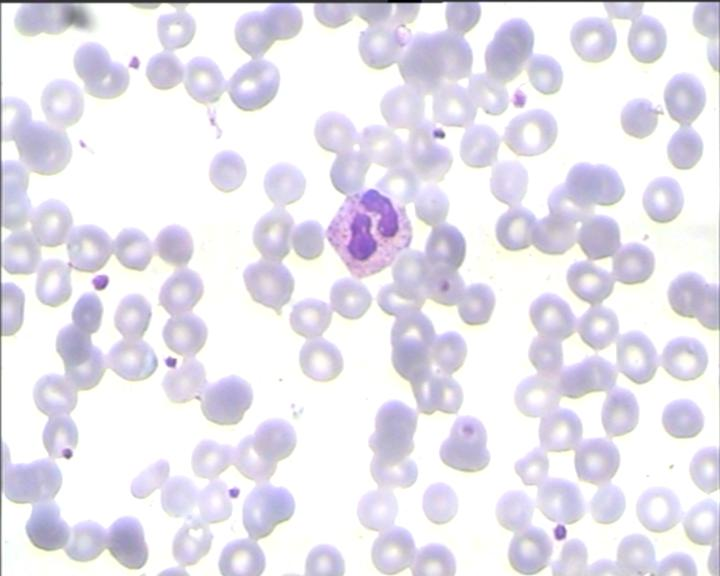neut: (321, 185, 417, 277)
